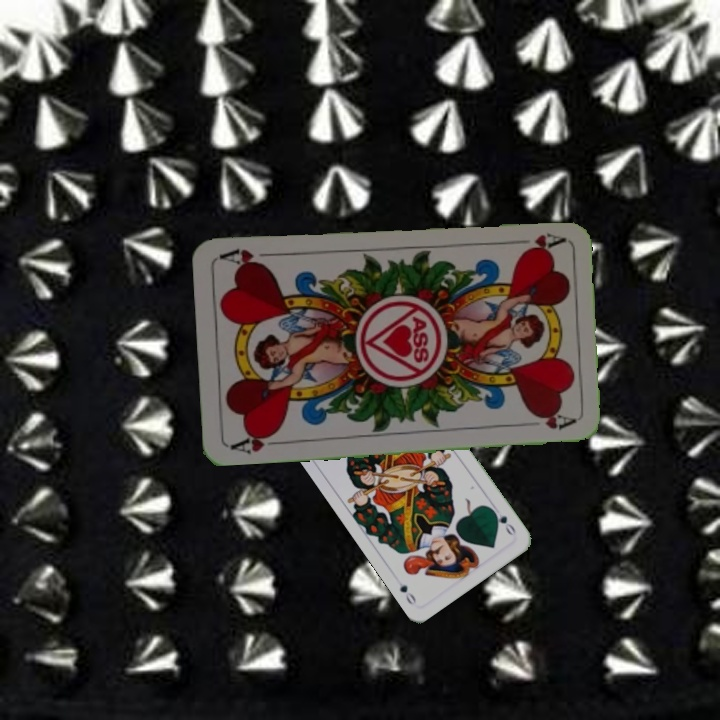GO: (488, 505, 519, 539)
HA: (227, 427, 286, 456), (506, 229, 565, 254)
